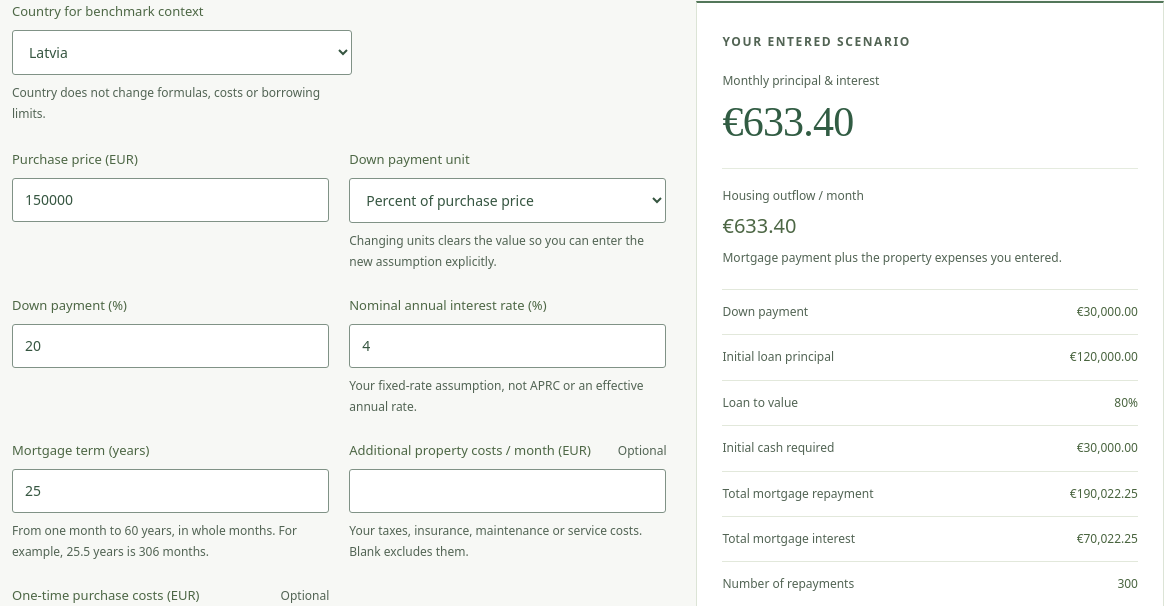
Test case: linked housing scenario › updates zero-interest payments and full-cash purchases immediately
(page scrolled)
Replace the text in the number field labelled "Nominal annual interest rate (%)" with "0" at (508, 346), box top-left (349, 324), bottom-right (666, 368)
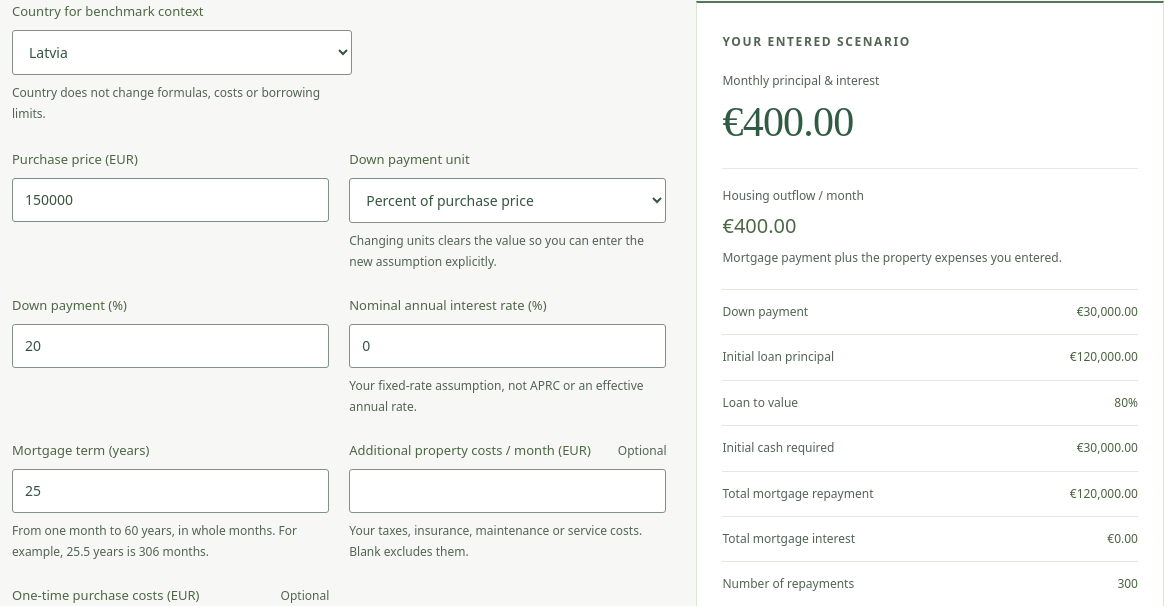
Expected: the element named "Mortgage results" shows "€400.00", top-left (722, 99), bottom-right (853, 145)
Replace the text in the number field labelled "Down payment (%)" with "100" at (171, 346), box top-left (12, 324), bottom-right (329, 368)
(page scrolled)
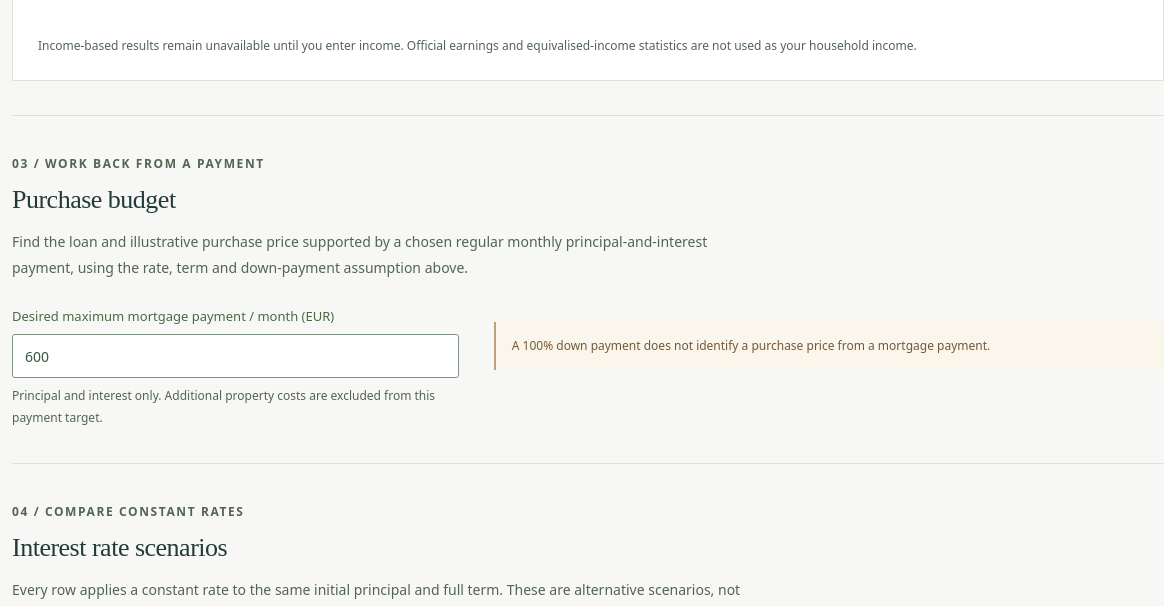
Expected: the text "A 100% down payment does not identify" is shown, top-left (512, 337), bottom-right (990, 354)
